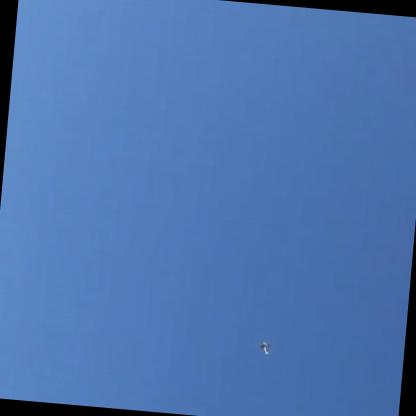plane: (256, 339, 269, 354)
